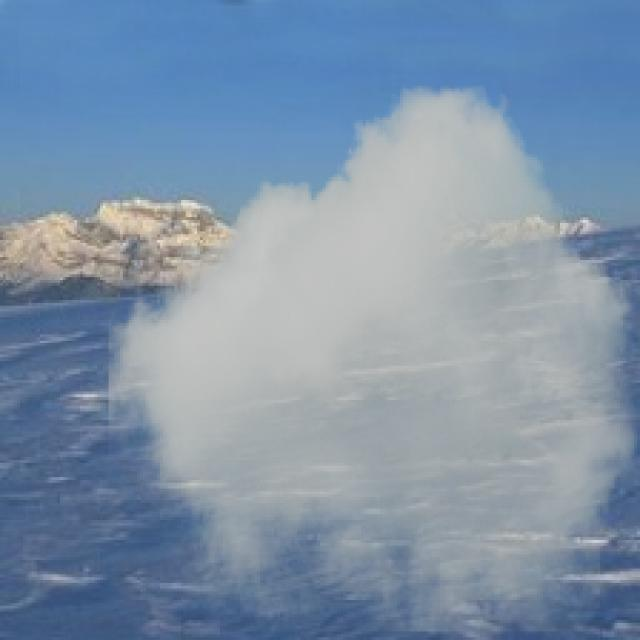smoke: (109, 86, 637, 634)
